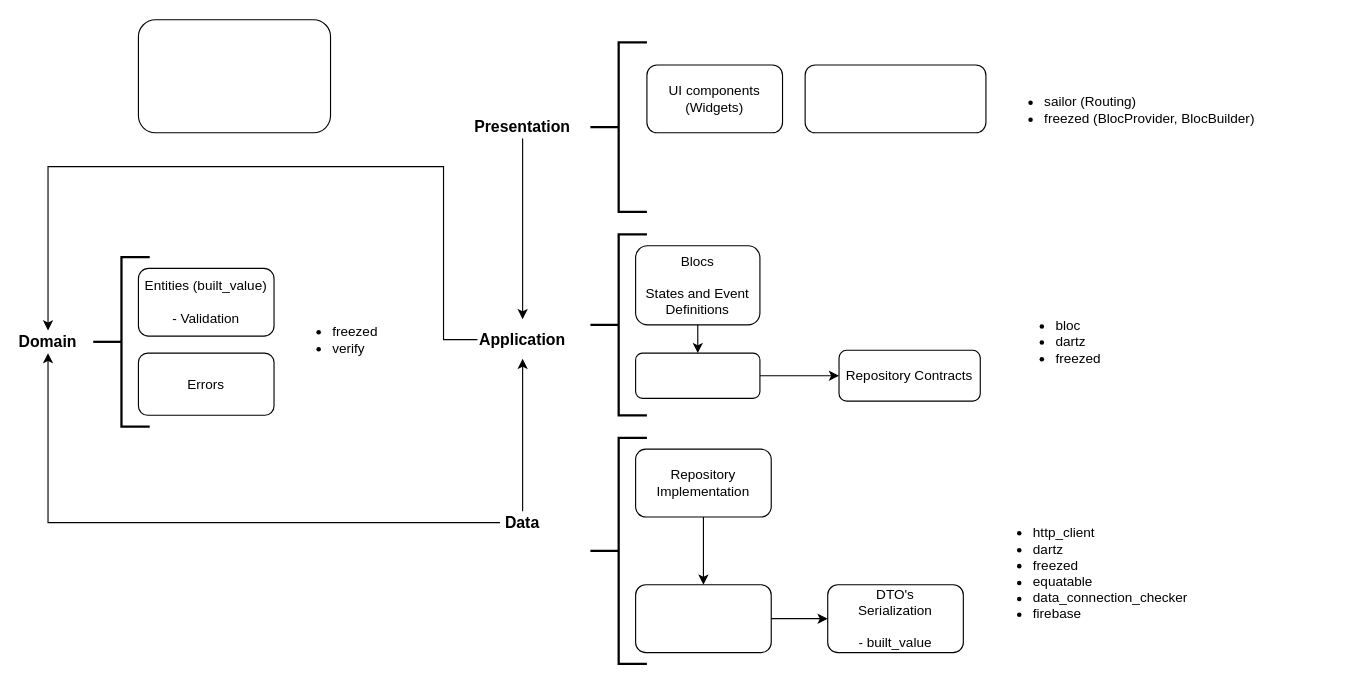
Some shapes in this 1356 by 685 pixel diagram are drawn without their labels. The shapes that lost their labels are listed below. From the top down, each one's box as (x1, y1, x2, y2) in pixels, then its label:
(137, 19, 331, 133): Injection Container (get_it) main.dart - Environment setup
(804, 64, 986, 133): Routing
(634, 352, 760, 398): UseCases
(634, 584, 771, 653): Data Sources
